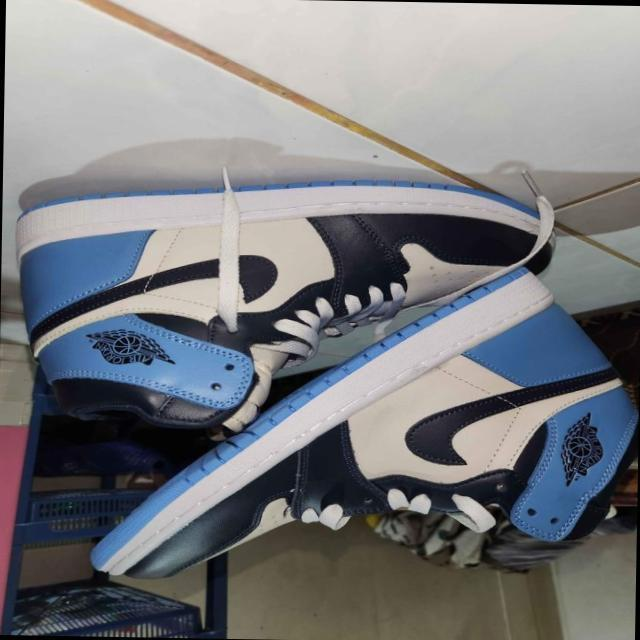nike fake jordan 1: (60, 262, 638, 592), (10, 178, 563, 439)
